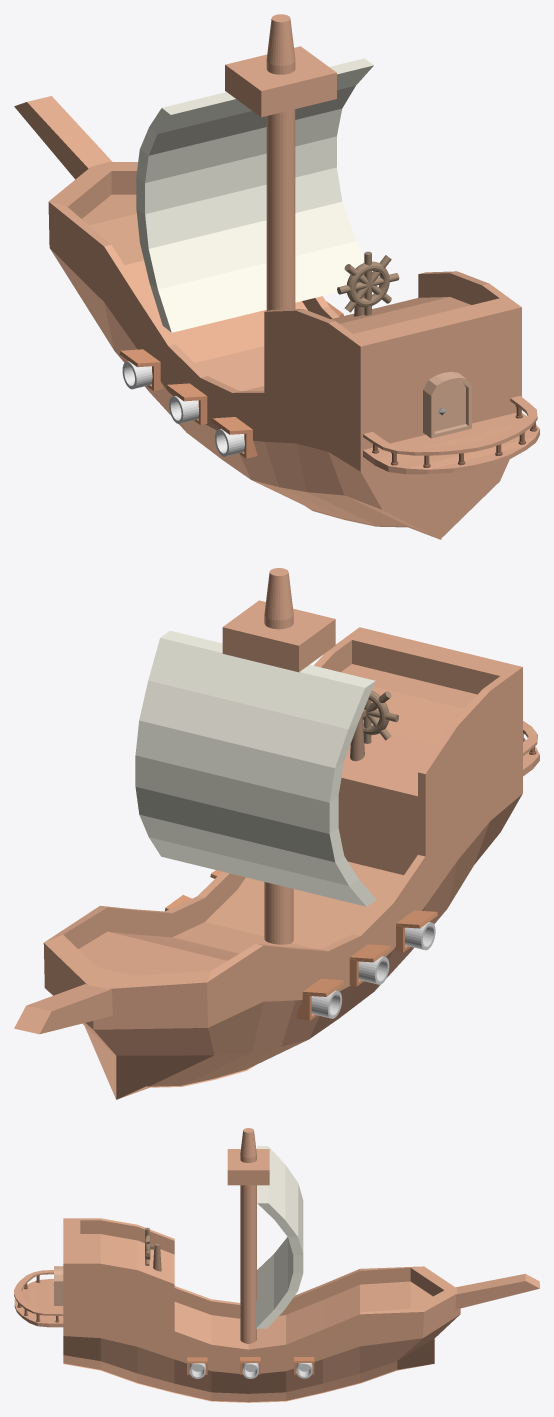
File: PikkuLaivaFbx 1.fbx
The picture shows the model from 3 angles, top to bottom: view 1: azimuth 30°, elevation 25°; view 2: azimuth 150°, elevation 25°; view 3: azimuth 270°, elevation 25°; orthographic projection. The views are drawn at different scales.
Visible parts, largest first — view 1: Laiva; view 2: Laiva; view 3: Laiva.
Part boxes in pixels (<box>): Laiva: <box>14,14,539,539</box>; Laiva: <box>14,568,539,1099</box>; Laiva: <box>14,1128,539,1402</box>.
Bounding box in the file's own units: 1656 × 3593 × 6291.
